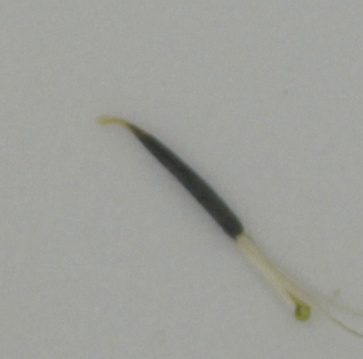เมล็ดดีเรียวยาว: (98, 113, 363, 336)
